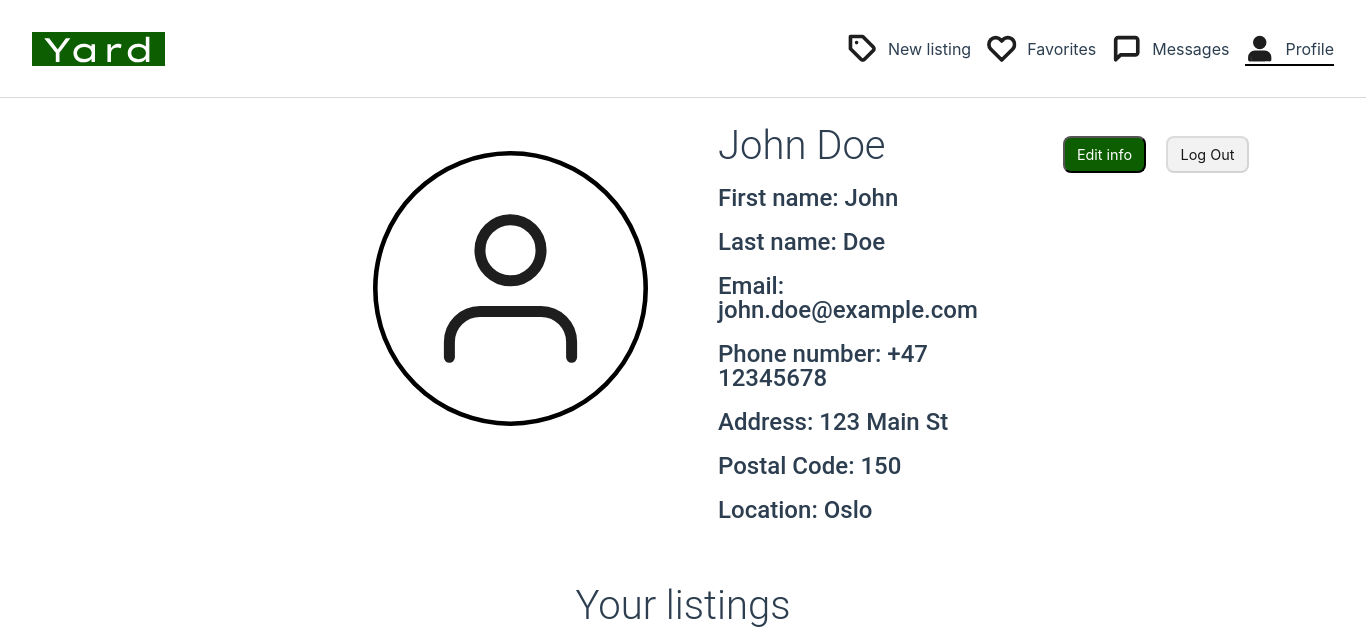
Test case: Profile Page › can save updated user information
Note: Enter edit mode
Click the button with class "edit-info-button" at (1105, 155), box [1063, 136, 1146, 173]
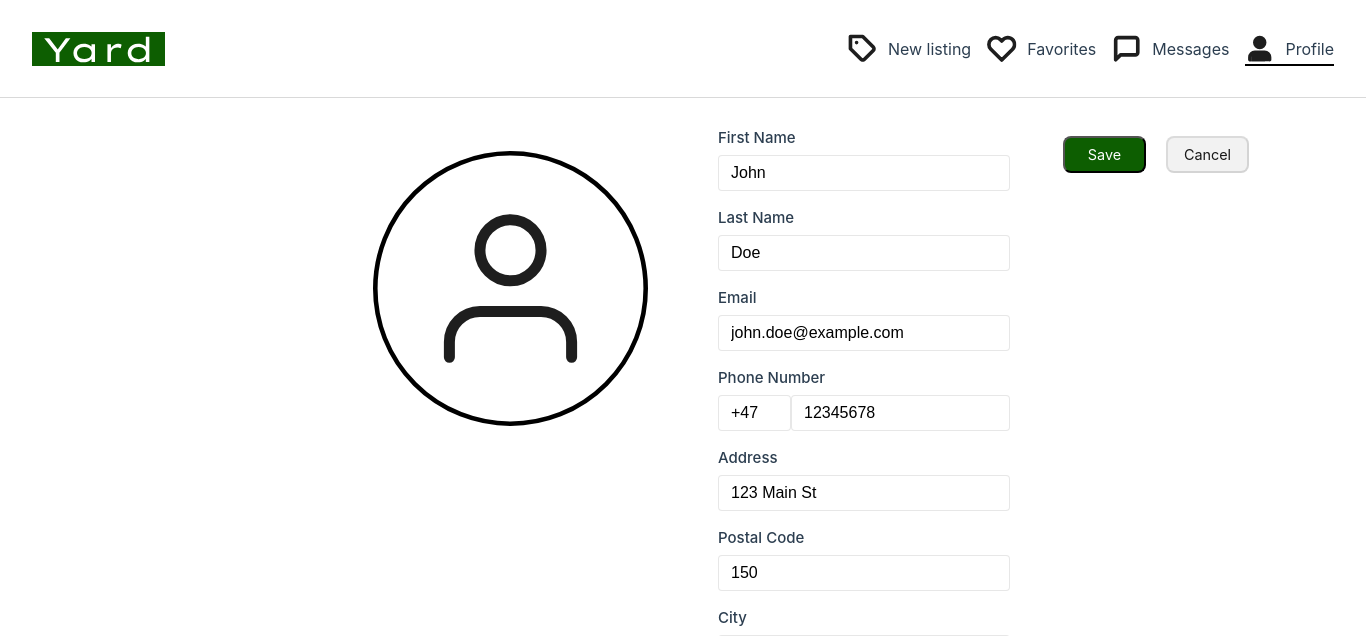
Note: Change user data
Clear the field with id "firstName" at (864, 173), box [718, 155, 1010, 191]
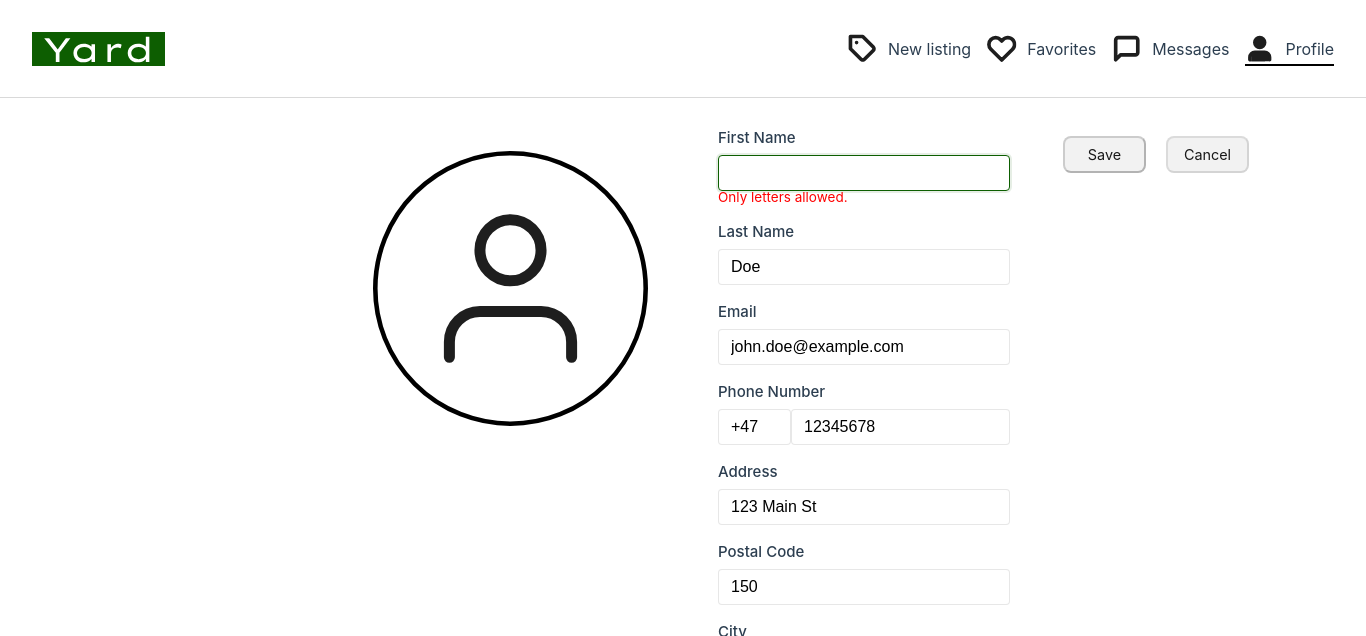
Clear the field with id "lastName" at (864, 267), box [718, 249, 1010, 285]
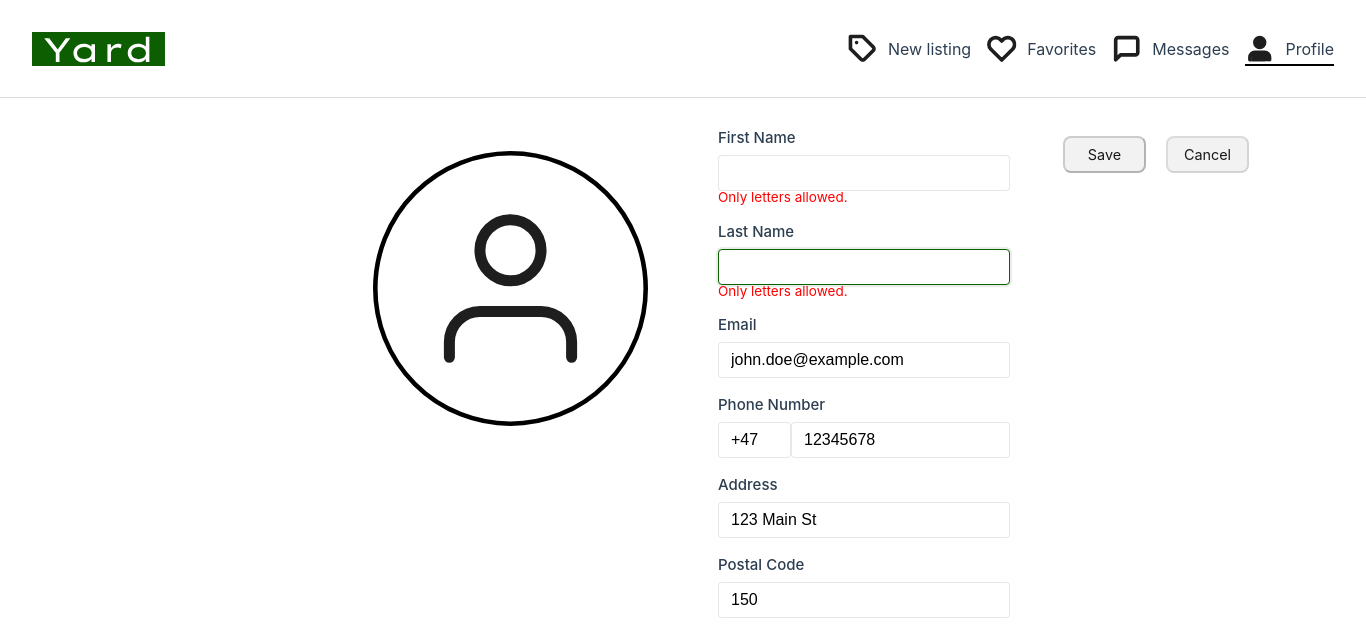
Type "Jane" into the field with id "firstName" at (864, 173), box [718, 155, 1010, 191]
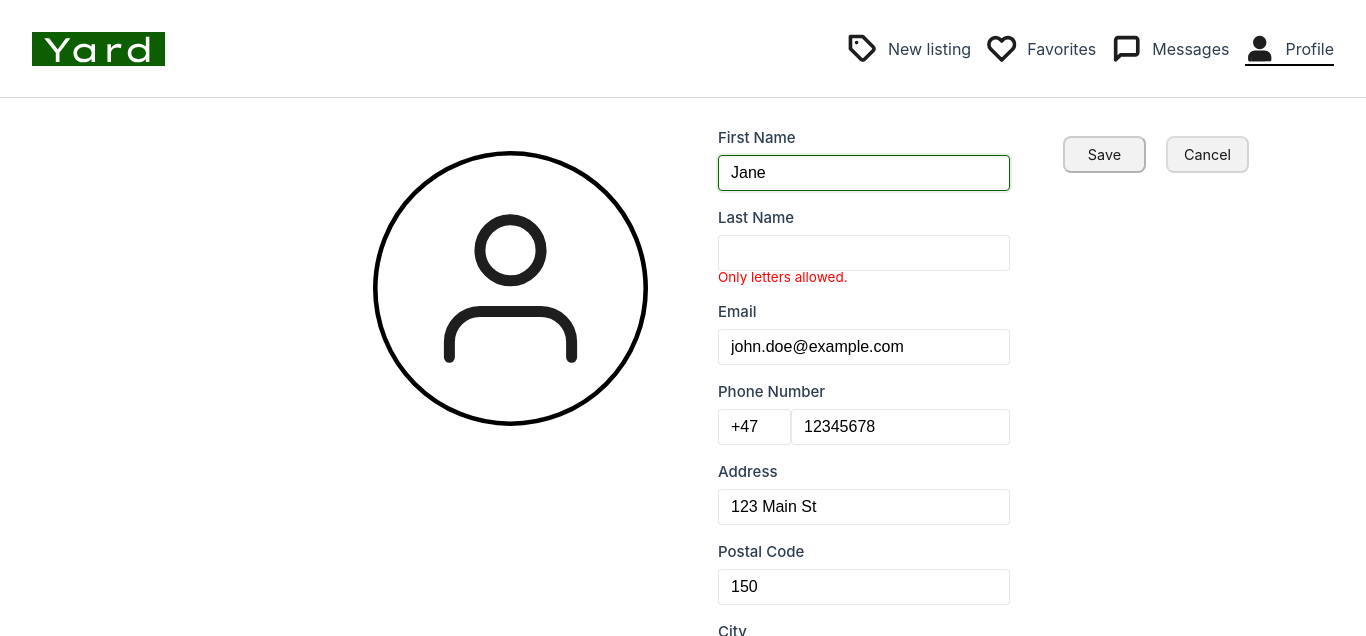
Type "Smith" into the field with id "lastName" at (864, 253), box [718, 235, 1010, 271]
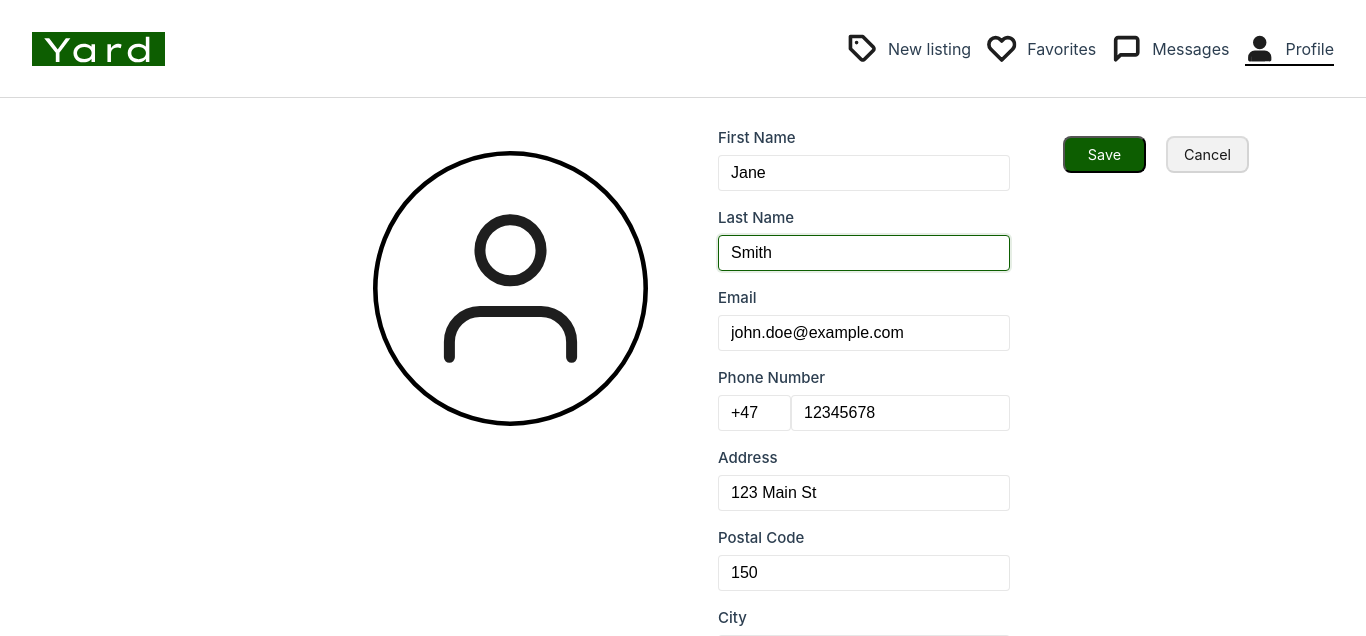
Note: Save changes
Click the button with class "save-info" at (1105, 155), box [1063, 136, 1146, 173]
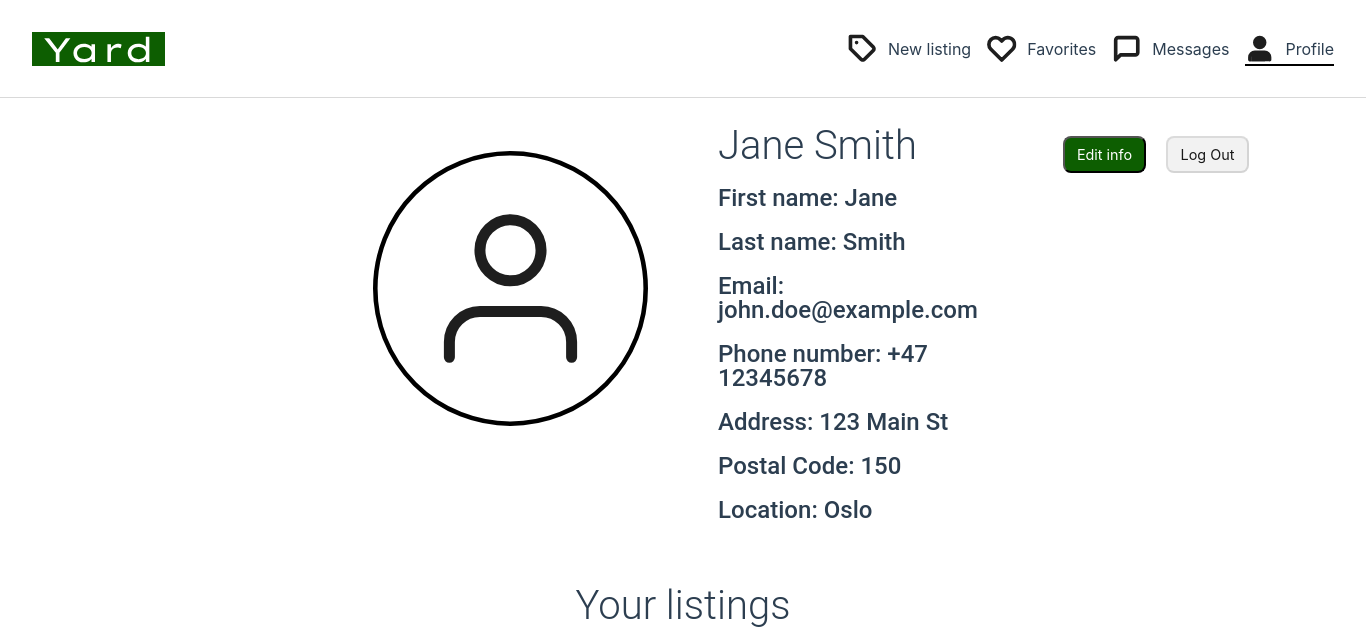
Now the heading "Jane Smith" is shown, box [718, 122, 917, 169]
Now the heading "First name: Jane" is shown, box [718, 184, 897, 212]
Now the heading "Last name: Smith" is shown, box [718, 228, 906, 256]
